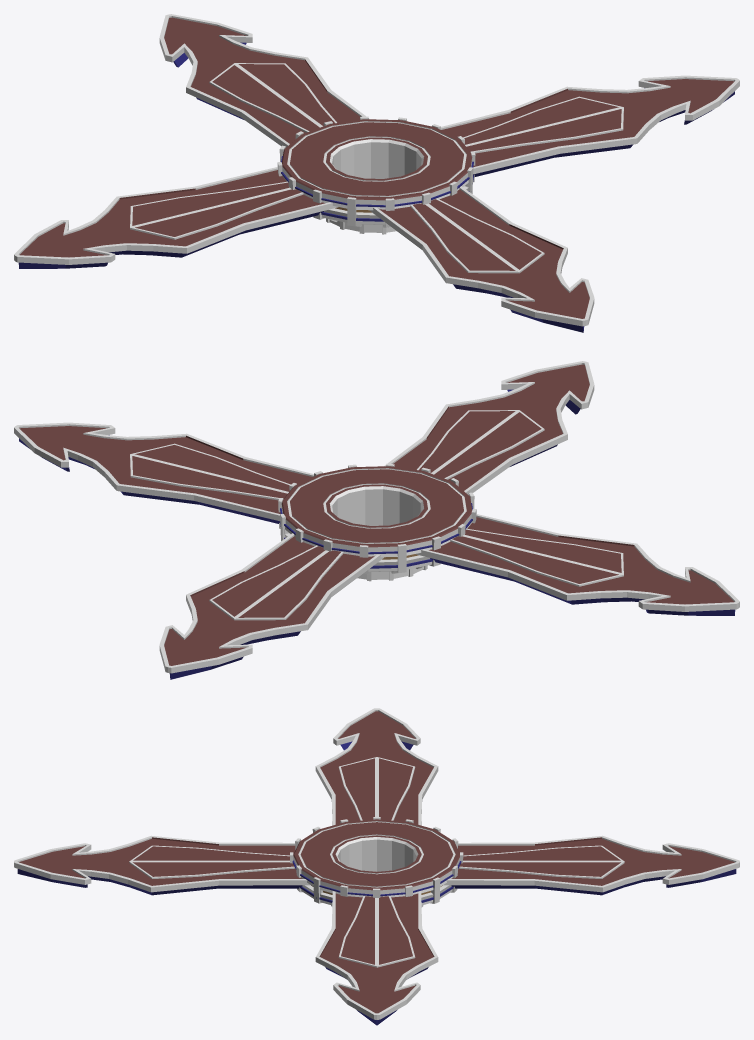
The model's file is chackpointPlatform.fbx.
The picture shows the model from 3 angles, top to bottom: view 1: azimuth 30°, elevation 25°; view 2: azimuth 150°, elevation 25°; view 3: azimuth 270°, elevation 25°; orthographic projection. The views are drawn at different scales.
Parts seen in each view (by area): view 1: checkpointArrow.001, checkpointArrow, ChecpointPlatform, trims.001; view 2: checkpointArrow.001, checkpointArrow, ChecpointPlatform, trims.001; view 3: checkpointArrow, checkpointArrow.001, ChecpointPlatform, trims.001.
Boxes of the visible parts, x1,y1,x2,y2 form: checkpointArrow.001: [14, 75, 739, 268]; checkpointArrow: [159, 14, 594, 332]; ChecpointPlatform: [281, 119, 473, 232]; trims.001: [277, 116, 475, 234]; checkpointArrow.001: [14, 422, 739, 615]; checkpointArrow: [159, 361, 594, 679]; ChecpointPlatform: [280, 466, 472, 579]; trims.001: [278, 463, 476, 581]; checkpointArrow: [14, 835, 739, 895]; checkpointArrow.001: [315, 708, 438, 1025]; ChecpointPlatform: [292, 819, 461, 905]; trims.001: [290, 817, 463, 907].
Bounding box in the file's own units: 6985 × 490 × 6985.
